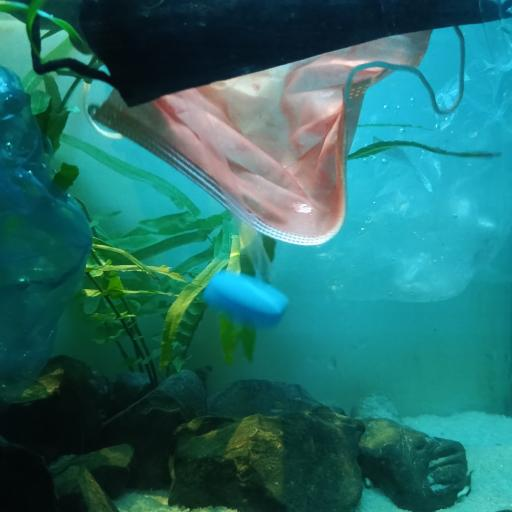bottle_cap: (208, 269, 290, 324)
mask: (83, 26, 467, 250), (28, 0, 512, 106)
plastic_bag: (326, 2, 512, 306), (0, 66, 94, 402)
